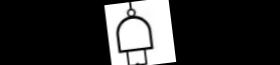nand: (108, 3, 158, 55)
